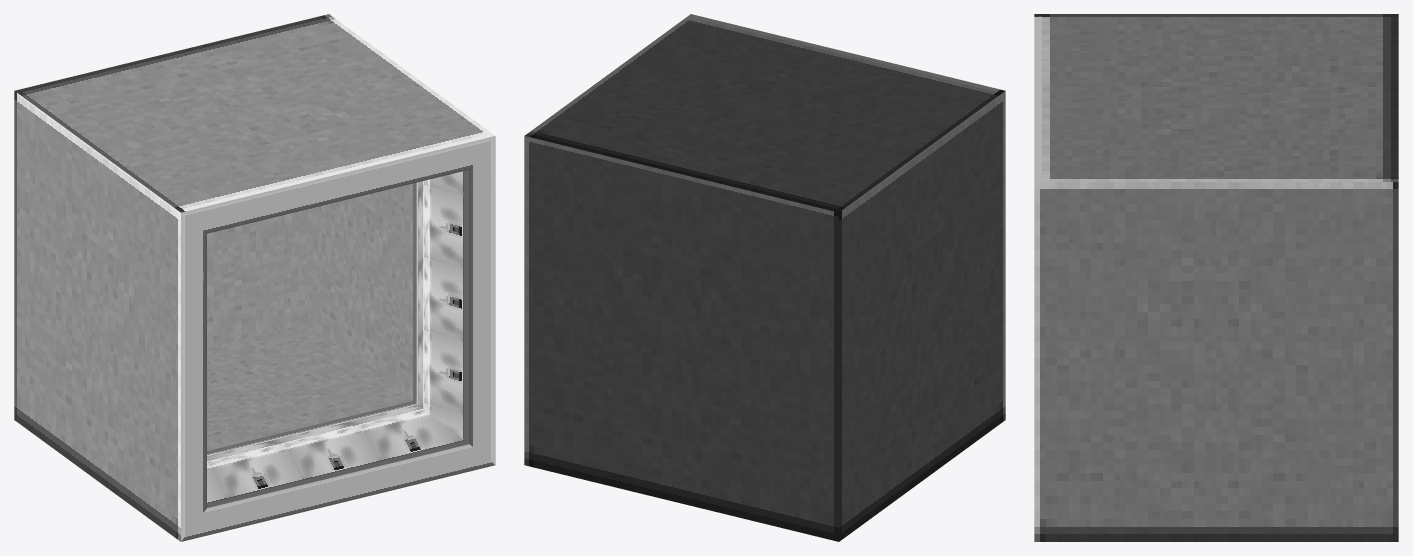
The model's file is PsafeZ.obj.
3 views of the same model, side by side, from view 1: azimuth 30°, elevation 25°; view 2: azimuth 150°, elevation 25°; view 3: azimuth 270°, elevation 25° (orthographic). The views are drawn at different scales.
Size of the model in its own units: 1200 by 1200 by 1100.
Materials: 3 (3 with a texture image).
